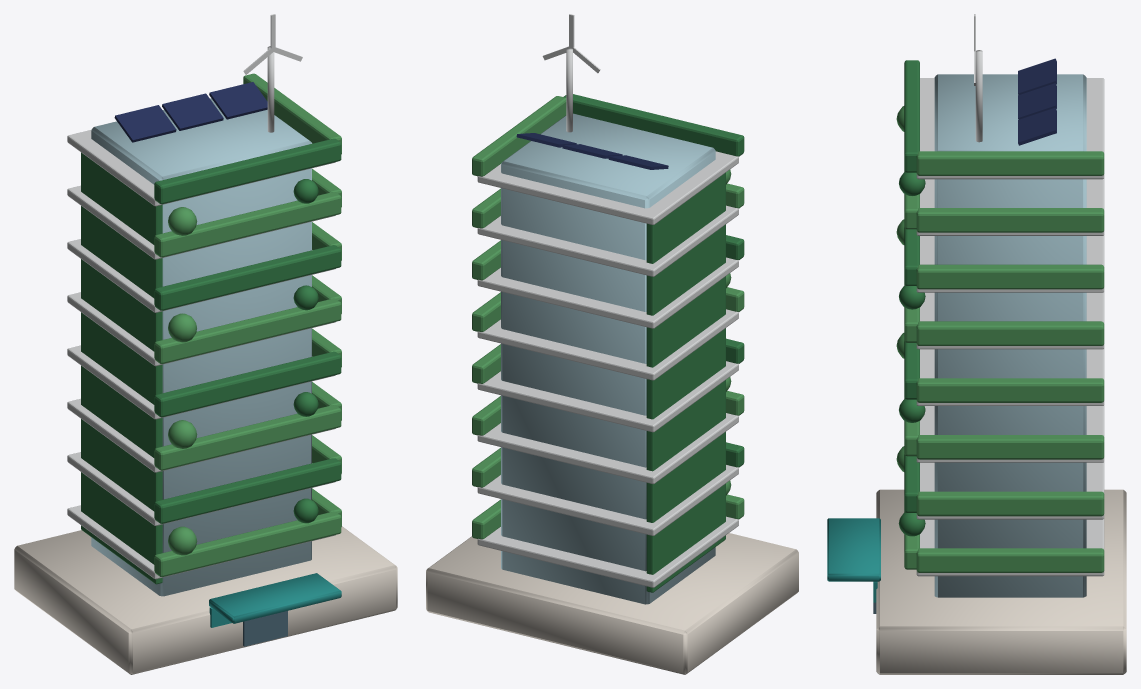
The picture shows the model from 3 angles, left to right: view 1: azimuth 30°, elevation 25°; view 2: azimuth 150°, elevation 25°; view 3: azimuth 270°, elevation 25°; orthographic projection. The views are drawn at different scales.
Parts seen in each view (by area): view 1: lm_01; view 2: lm_01; view 3: lm_01.
Part boxes in pixels (x1,y1,x2,y2): lm_01: (14,14,397,674); lm_01: (426,14,798,674); lm_01: (827,14,1126,674).
Bounding box in the file's own units: 0.74 × 1.53 × 0.67.
